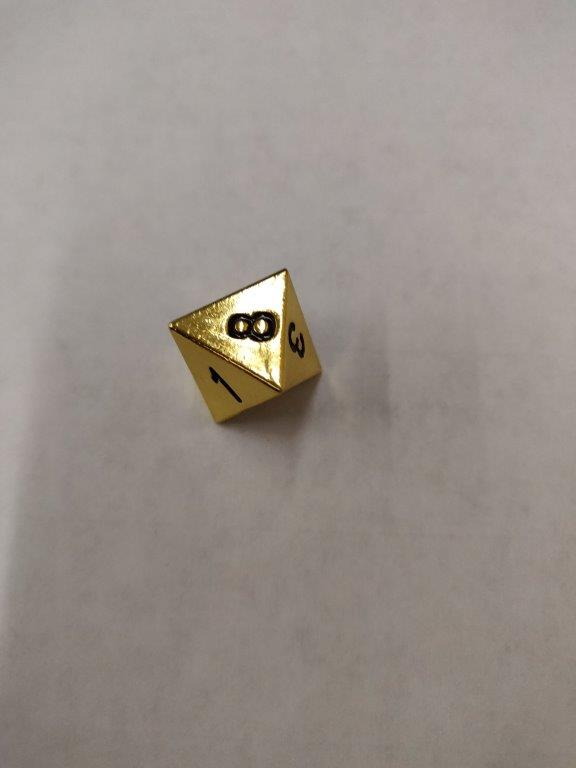d8-8: (168, 267, 324, 428)
